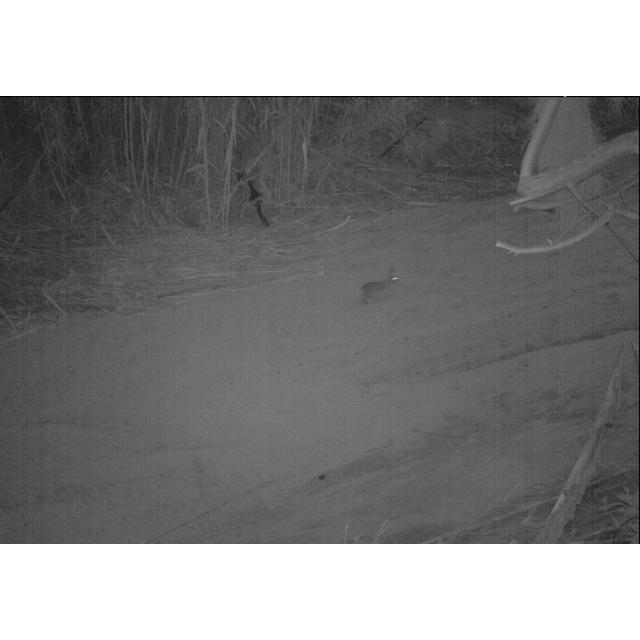animals: (359, 261, 403, 301)
